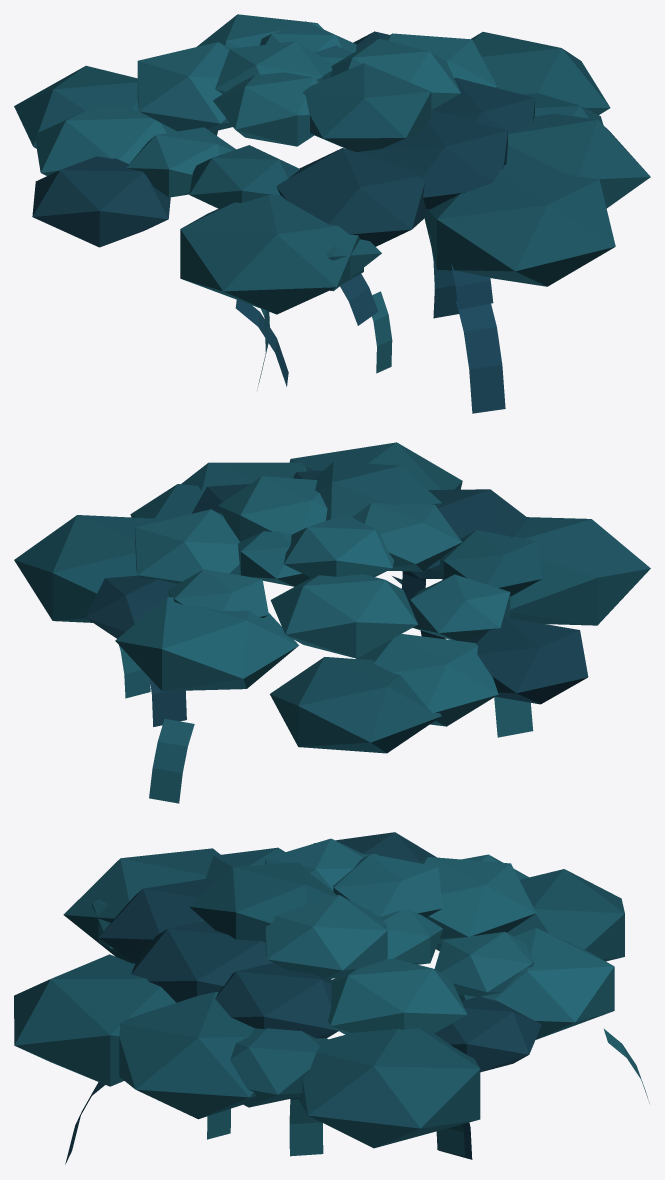
The model's file is swamp_canopy.glb.
3 views of the same model, one above another, from view 1: azimuth 30°, elevation 25°; view 2: azimuth 150°, elevation 25°; view 3: azimuth 270°, elevation 25° (orthographic). The views are drawn at different scales.
Visible parts, largest first — view 1: n6, n10, n28, n12, n42, n26, n4, n34, n22, n14, n44, n16 (+16 smaller); view 2: n18, n16, n10, n34, n22, n12, n14, n38, n46, n40, n32, n44 (+14 smaller); view 3: n22, n6, n4, n18, n38, n40, n26, n42, n16, n34, n24, n10 (+12 smaller).
Part boxes in pixels (left/top/right/bottom): n6: left=424, top=165, right=615, bottom=286; n10: left=180, top=195, right=363, bottom=314; n28: left=276, top=148, right=426, bottom=246; n12: left=32, top=156, right=170, bottom=247; n42: left=302, top=63, right=431, bottom=152; n26: left=357, top=110, right=507, bottom=209; n4: left=506, top=113, right=650, bottom=208; n34: left=137, top=42, right=232, bottom=131; n22: left=471, top=32, right=610, bottom=114; n14: left=35, top=106, right=176, bottom=175; n44: left=213, top=72, right=319, bottom=146; n16: left=14, top=65, right=139, bottom=148; n18: left=115, top=597, right=298, bottom=691; n16: left=270, top=657, right=441, bottom=753; n10: left=510, top=517, right=650, bottom=625; n34: left=270, top=574, right=417, bottom=658; n22: left=14, top=515, right=160, bottom=622; n12: left=466, top=617, right=588, bottom=704; n14: left=356, top=634, right=498, bottom=726; n38: left=135, top=509, right=240, bottom=584; n46: left=283, top=514, right=394, bottom=578; n40: left=218, top=476, right=327, bottom=541; n32: left=410, top=574, right=510, bottom=641; n44: left=352, top=503, right=461, bottom=571; n22: left=298, top=1028, right=480, bottom=1148; n6: left=14, top=954, right=176, bottom=1086; n4: left=119, top=992, right=256, bottom=1119; n18: left=458, top=928, right=614, bottom=1039; n38: left=328, top=958, right=467, bottom=1034; n40: left=265, top=895, right=387, bottom=979; n26: left=131, top=920, right=273, bottom=1002; n42: left=189, top=862, right=336, bottom=942; n16: left=507, top=869, right=624, bottom=961; n34: left=419, top=857, right=535, bottom=943; n24: left=215, top=963, right=339, bottom=1038; n10: left=63, top=848, right=220, bottom=964.
Bounding box in the file's own units: 77.34 × 34.17 × 73.18.
